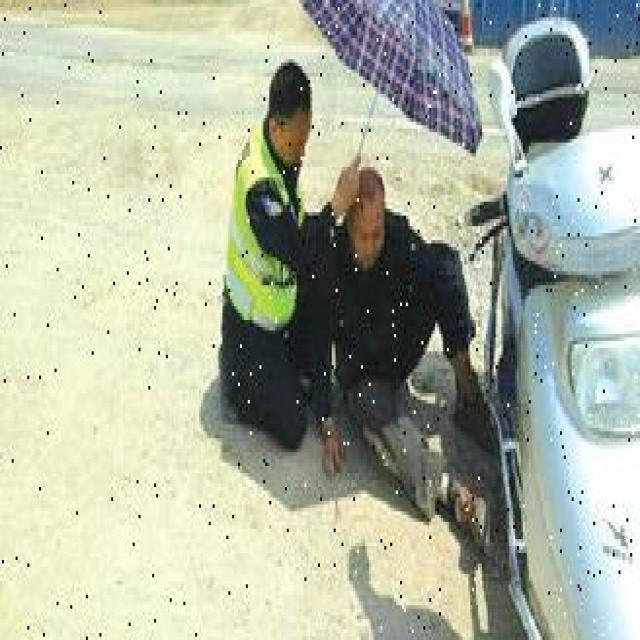fall: (332, 174, 489, 536)
